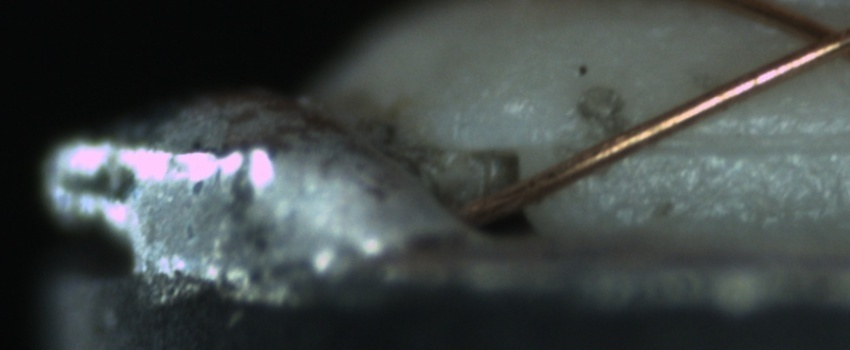CL: (777, 6, 849, 70)
DL: (605, 107, 847, 176)
